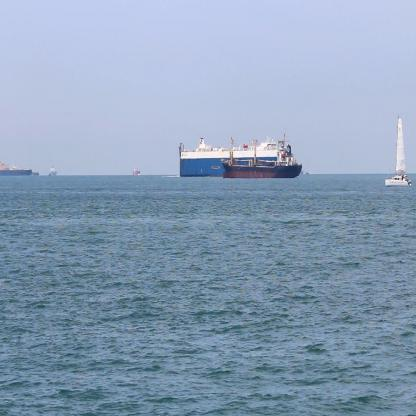Container Ship: (176, 134, 290, 180), (219, 128, 304, 181), (0, 160, 35, 178), (46, 163, 58, 179), (132, 164, 142, 178)
